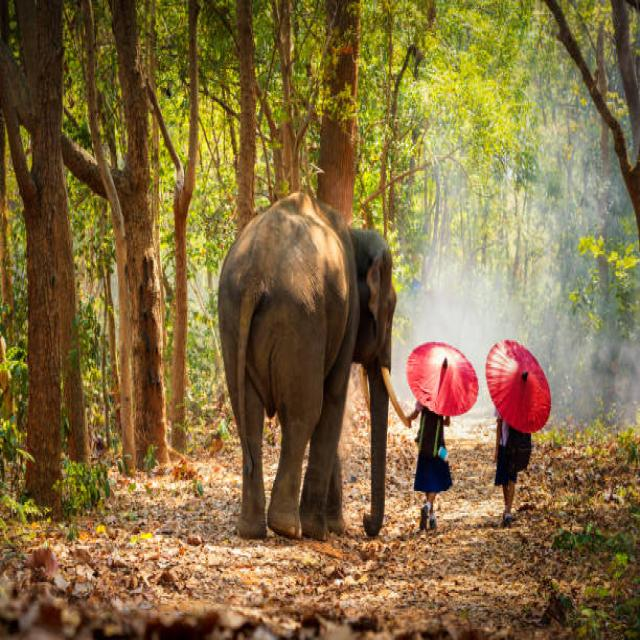Elephant: (214, 178, 406, 575)
